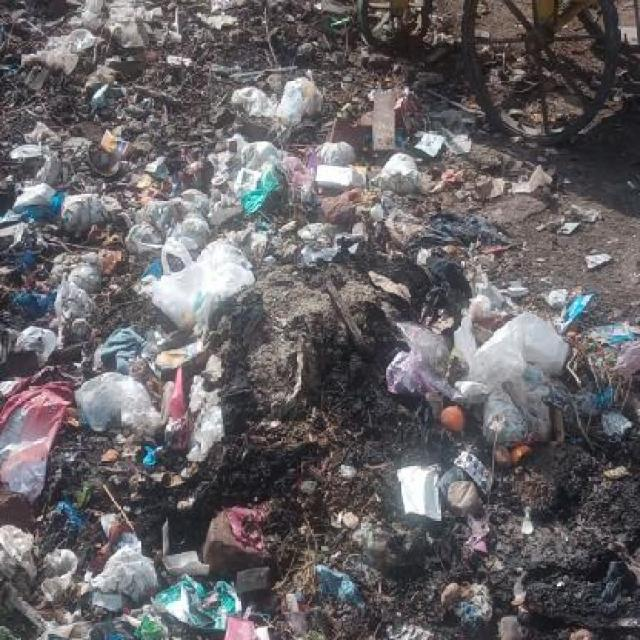garbage: (2, 2, 413, 640), (414, 249, 640, 500), (415, 115, 578, 236)
